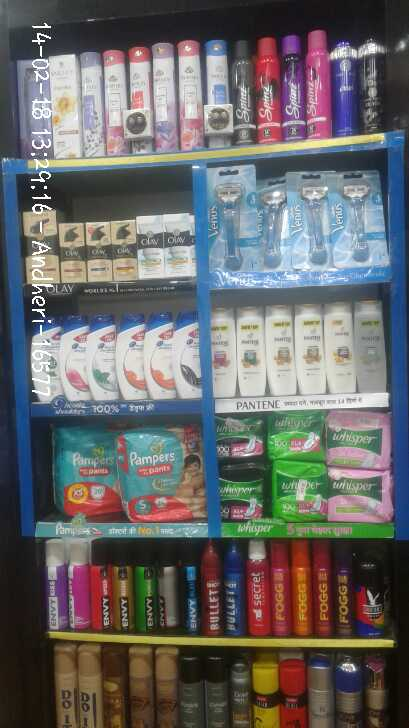venus: (208, 167, 260, 271), (331, 165, 385, 264), (285, 171, 330, 269), (260, 175, 284, 271)
